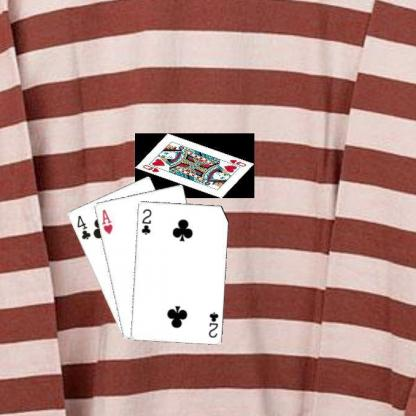2C: (139, 206, 152, 236), (206, 309, 219, 339)
4C: (74, 212, 92, 241)
AH: (99, 207, 113, 235)
